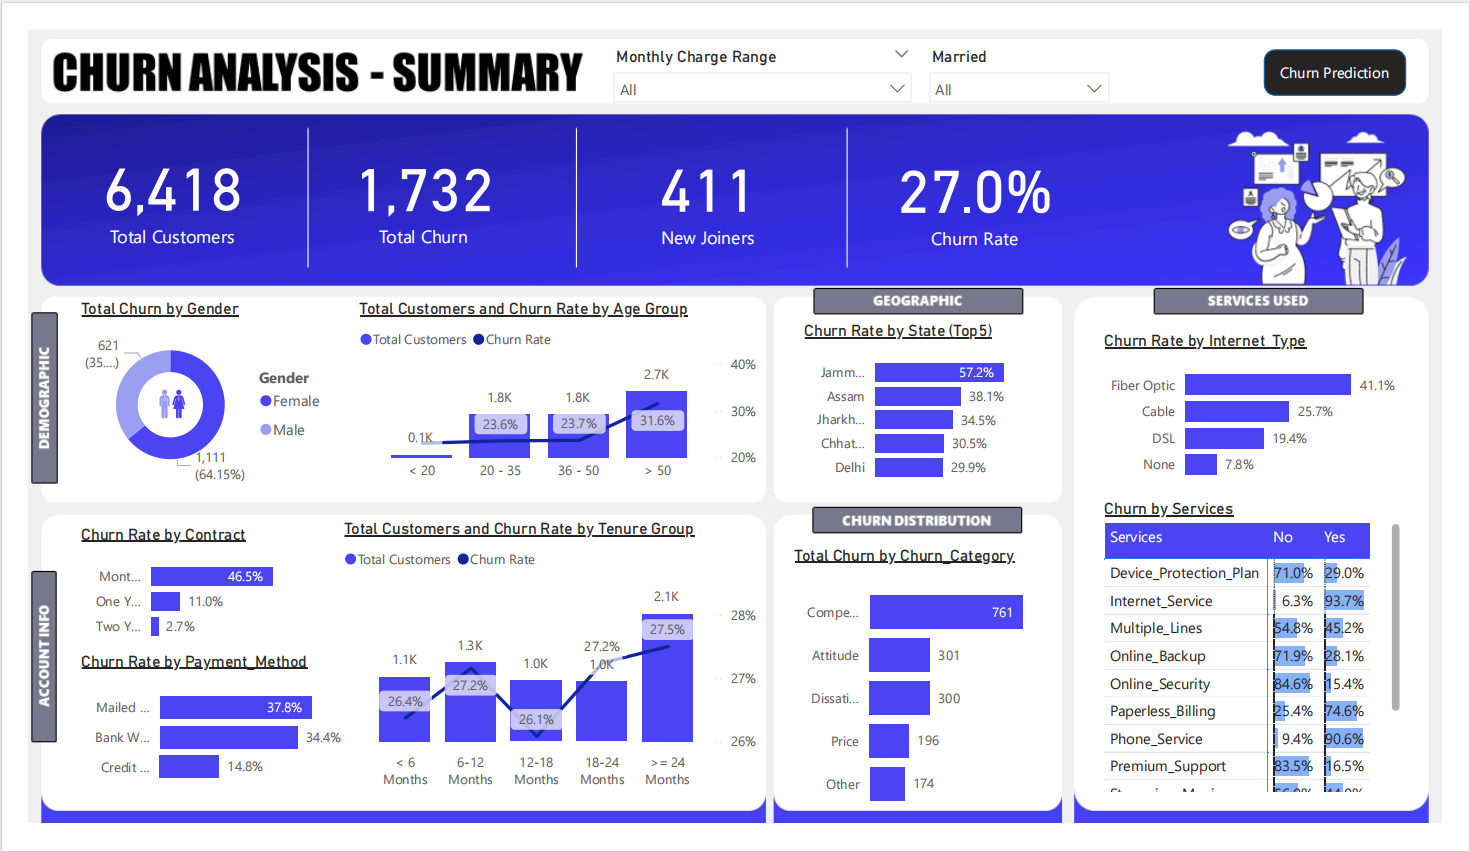

Layout of this report page (visuals, bound fields, positions):
{"tool":"powerbi","page":{"name":"Summary","canvas":[1280,720],"ordinal":0},"visuals":[{"type":"image","box":[101.7,316.7,56.7,43.3],"z":0},{"type":"card","fields":{"Values":["tbl_Measures.Total Customers"]},"box":[42.5,96.2,175,105],"z":1000},{"type":"card","fields":{"Values":["tbl_Measures.Total Churn"]},"box":[220,83.8,276.2,130],"z":2000},{"type":"card","fields":{"Values":["tbl_Measures.New Joiners"]},"box":[505,85,221.2,128.8],"z":3000},{"type":"card","fields":{"Values":["tbl_Measures.Churn Rate"]},"box":[726.2,86.2,262.5,128.8],"z":4000},{"type":"donutChart","fields":{"Category":["prod_Churn.Gender"],"Y":["tbl_Measures.Total Churn"]},"box":[42.5,245,237.5,173.8],"z":5000},{"type":"lineStackedColumnComboChart","fields":{"Y":["tbl_Measures.Total Customers"],"Category":["mapping_AgeGrp.Age Group"],"Y2":["tbl_Measures.Churn Rate"]},"box":[295,245,370,173.3],"z":6000},{"type":"clusteredBarChart","fields":{"Y":["tbl_Measures.Churn Rate"],"Category":["prod_Churn.Payment_Method"]},"box":[42.5,563.8,252.5,131.2],"z":7000},{"type":"clusteredBarChart","fields":{"Category":["prod_Churn.Contract"],"Y":["tbl_Measures.Churn Rate"]},"box":[42.5,448.8,221.2,115],"z":8000},{"type":"lineStackedColumnComboChart","fields":{"Y":["tbl_Measures.Total Customers"],"Y2":["tbl_Measures.Churn Rate"],"Category":["mapping_TenureGrp.Tenure Group"]},"box":[281.2,443.8,383.8,251.2],"z":9000},{"type":"clusteredBarChart","title":"Churn Rate by State (Top5)","fields":{"Category":["prod_Churn.State"],"Y":["tbl_Measures.Churn Rate"]},"box":[697.5,265,223.8,153.8],"z":10000},{"type":"clusteredBarChart","fields":{"Y":["tbl_Measures.Total Churn"],"Category":["prod_Churn.Churn_Category"]},"box":[688.8,467.5,241.2,252.5],"z":11000},{"type":"clusteredBarChart","fields":{"Category":["prod_Churn.Internet_Type"],"Y":["tbl_Measures.Churn Rate"]},"box":[970,273.8,277.5,145],"z":12000},{"type":"pivotTable","title":"Churn by Services","fields":{"Rows":["prod_Services.Services"],"Columns":["prod_Services.Status"],"Values":["Sum(prod_Services.Churn Status)"]},"box":[970,426.2,277.5,268.8],"z":13000},{"type":"slicer","fields":{"Values":["prod_Services.Monthly Charge Status"]},"box":[520,11.4,290,65.7],"z":14000},{"type":"slicer","fields":{"Values":["prod_Services.Married"]},"box":[805.7,11.4,182.9,61.4],"z":15000},{"type":"shape","box":[1119.1,17.7,128.6,42.7],"z":15001},{"type":"aiNarratives","box":[1083,86,184,150],"z":15002}]}

Visuals, with their boxes in screenshot pixels (x1, y1, x2, y2), scaled from the page's 1280x720 canvas onto the 1470x852 screenshot:
image: box(117, 375, 182, 426)
card - tbl_Measures.Total Customers: box(49, 114, 250, 238)
card - tbl_Measures.Total Churn: box(253, 99, 570, 253)
card - tbl_Measures.New Joiners: box(580, 101, 834, 253)
card - tbl_Measures.Churn Rate: box(834, 102, 1135, 254)
donutChart - prod_Churn.Gender x tbl_Measures.Total Churn: box(49, 290, 322, 496)
lineStackedColumnComboChart - tbl_Measures.Total Customers x mapping_AgeGrp.Age Group: box(339, 290, 764, 495)
clusteredBarChart - tbl_Measures.Churn Rate x prod_Churn.Payment_Method: box(49, 667, 339, 822)
clusteredBarChart - prod_Churn.Contract x tbl_Measures.Churn Rate: box(49, 531, 303, 667)
lineStackedColumnComboChart - tbl_Measures.Total Customers x tbl_Measures.Churn Rate: box(323, 525, 764, 822)
"Churn Rate by State (Top5)" clusteredBarChart: box(801, 314, 1058, 496)
clusteredBarChart - tbl_Measures.Total Churn x prod_Churn.Churn_Category: box(791, 553, 1068, 851)
clusteredBarChart - prod_Churn.Internet_Type x tbl_Measures.Churn Rate: box(1114, 324, 1433, 496)
"Churn by Services" pivotTable: box(1114, 504, 1433, 822)
slicer - prod_Services.Monthly Charge Status: box(597, 13, 930, 91)
slicer - prod_Services.Married: box(925, 13, 1135, 86)
shape: box(1285, 21, 1433, 71)
aiNarratives: box(1244, 102, 1455, 279)
